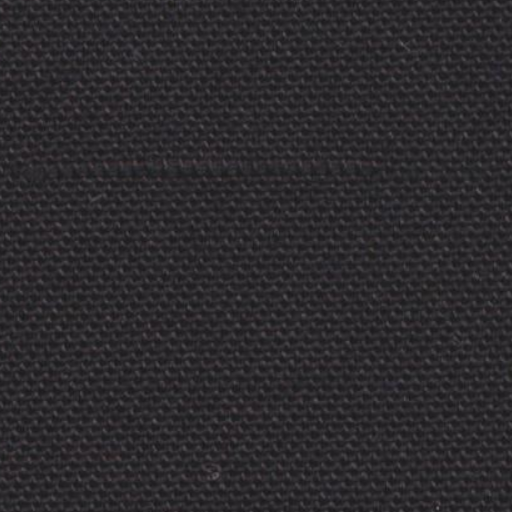DaiSha: (68, 143, 422, 186)
